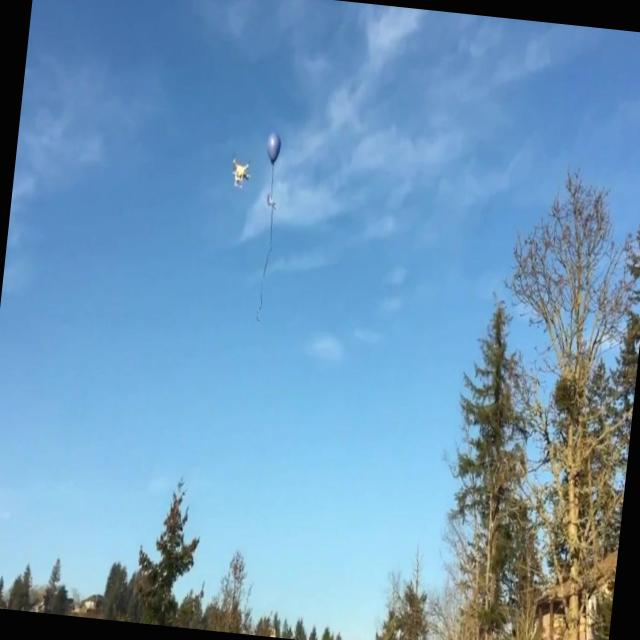drone: (227, 154, 253, 194)
